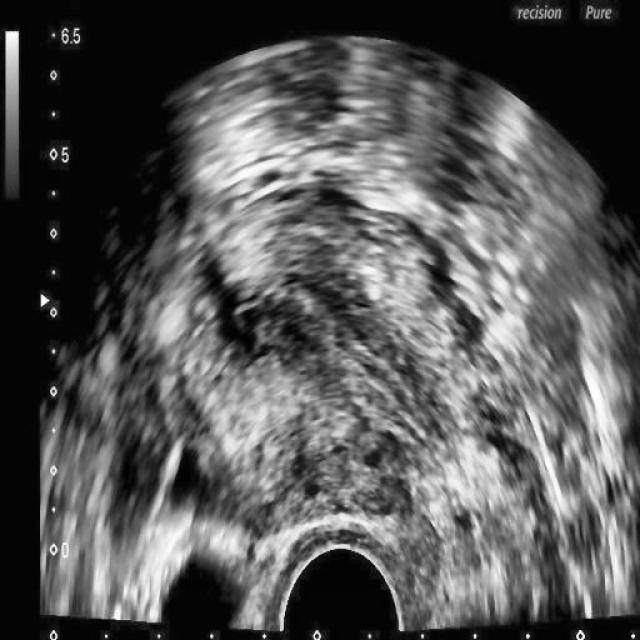non-viable embryo: (35, 32, 639, 639)
